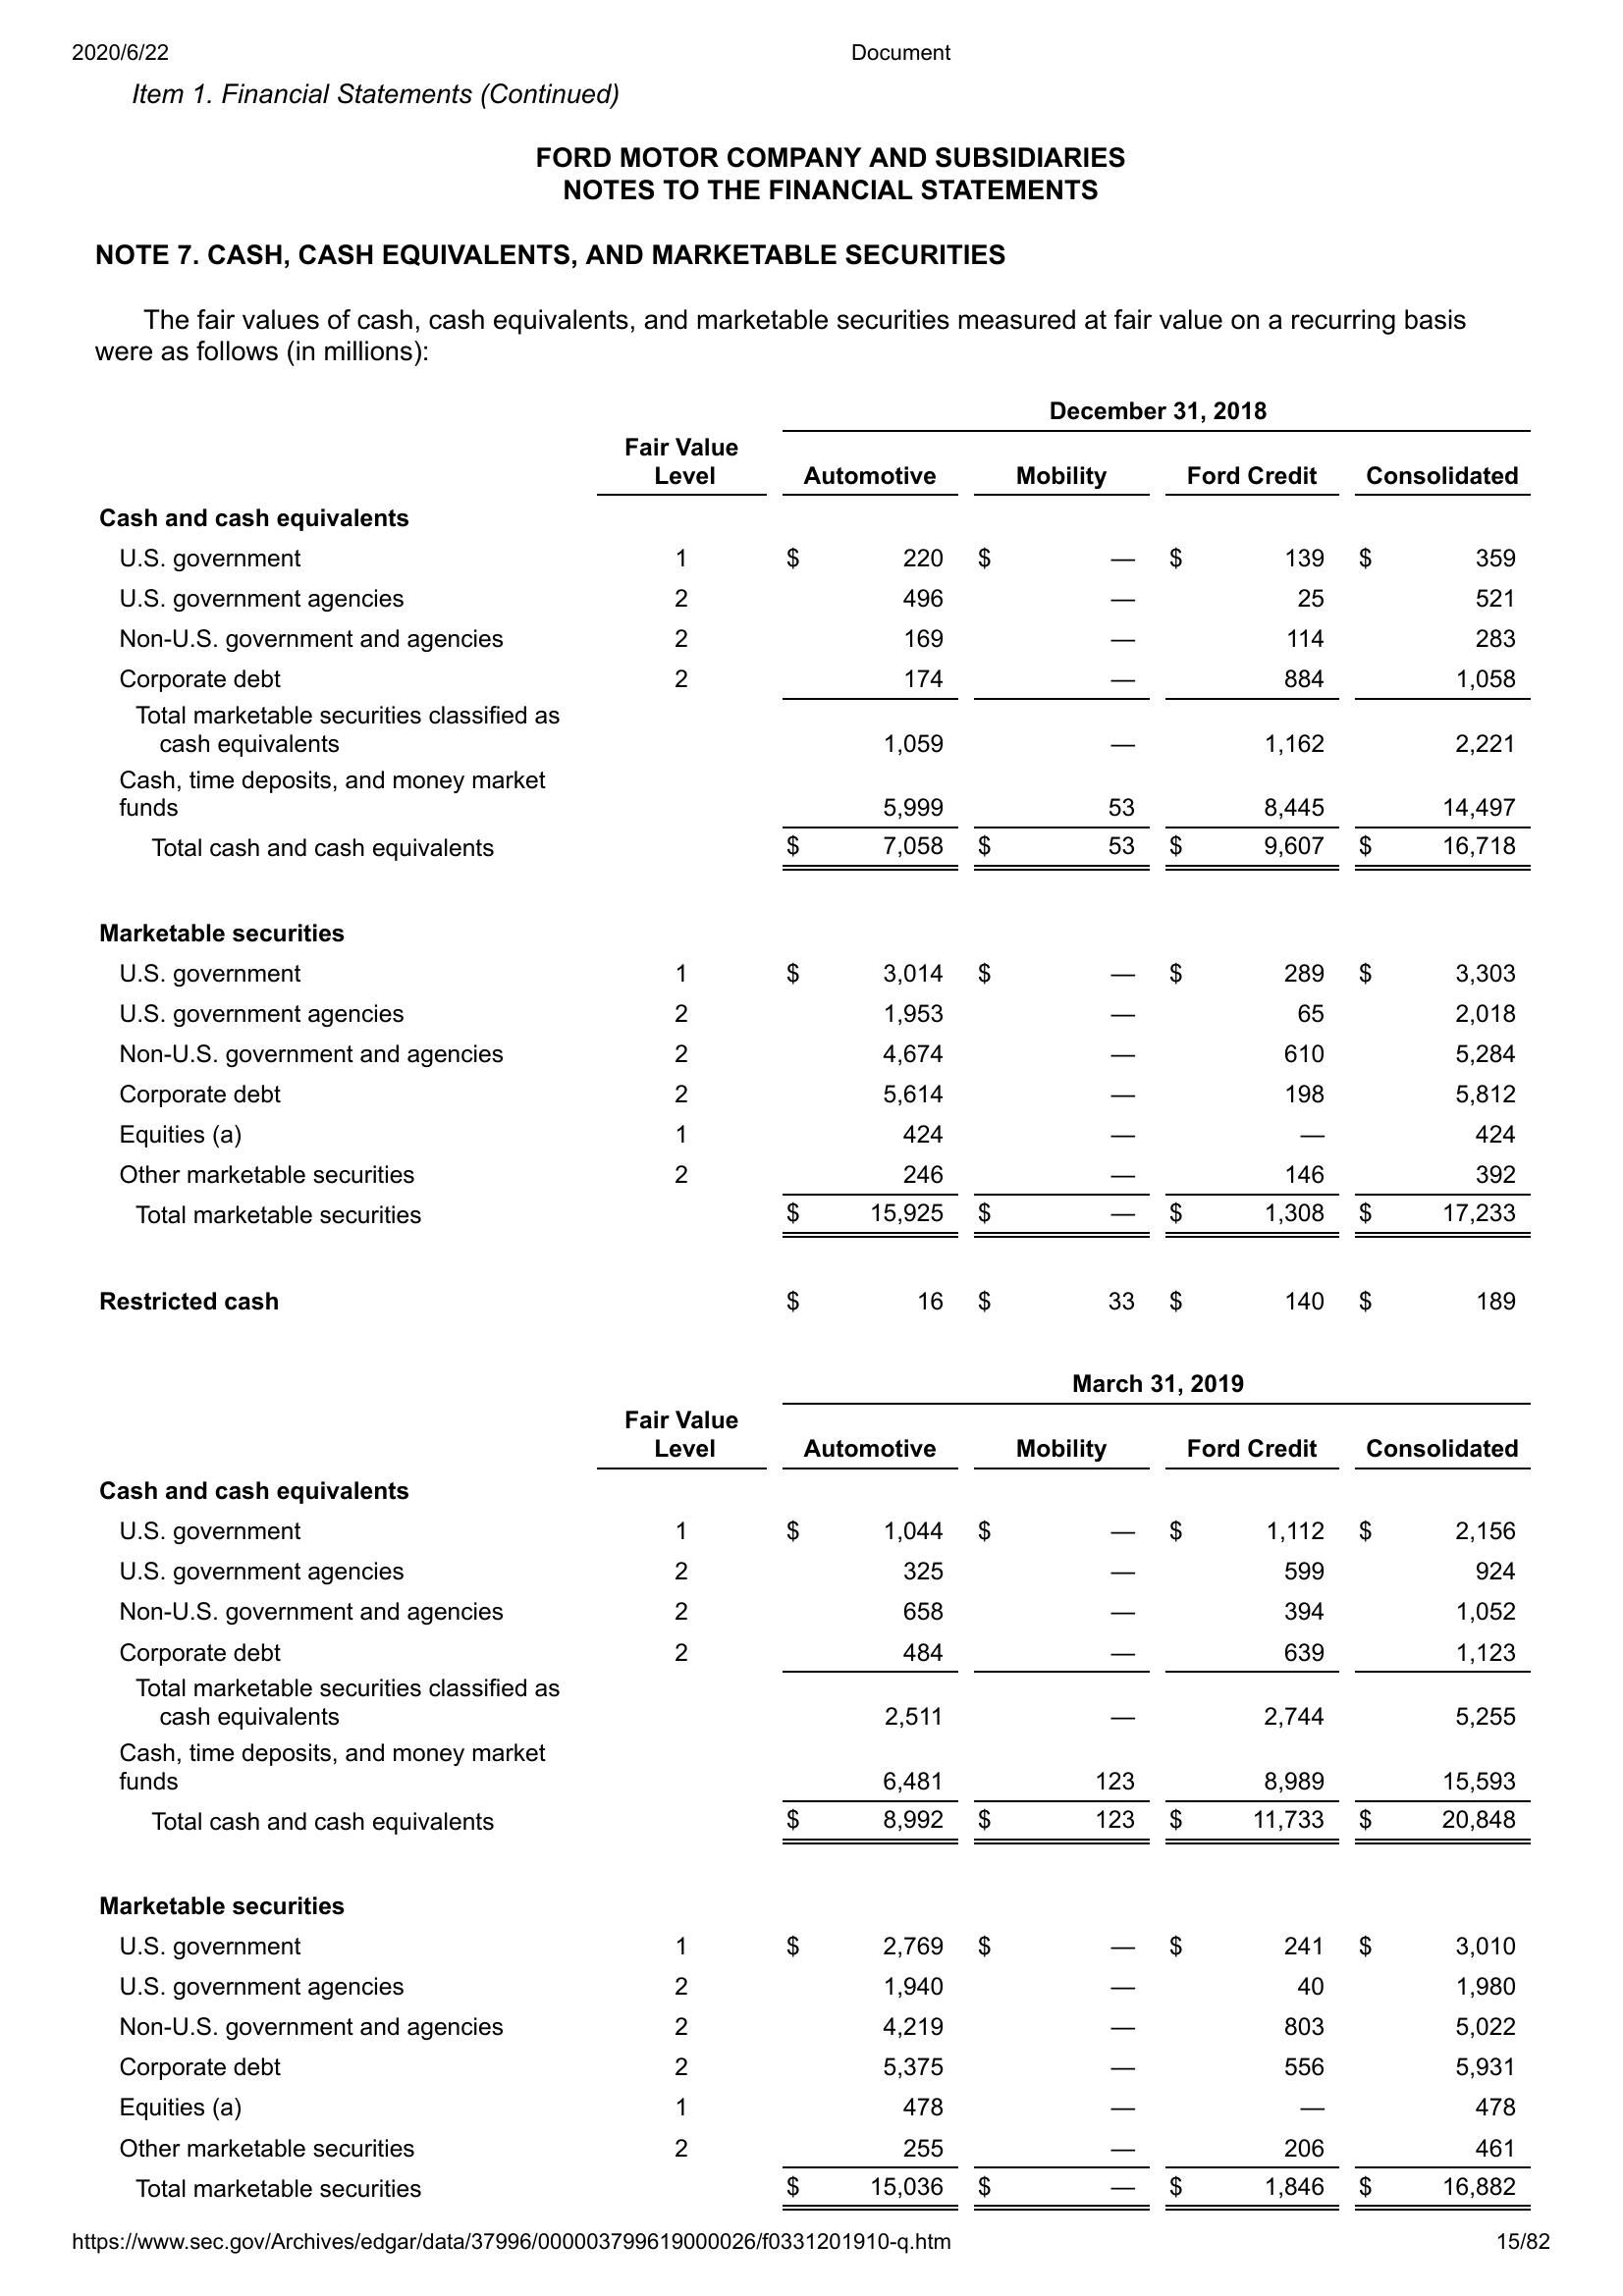table: (91, 379, 1533, 1322), (88, 1367, 1539, 2224)
